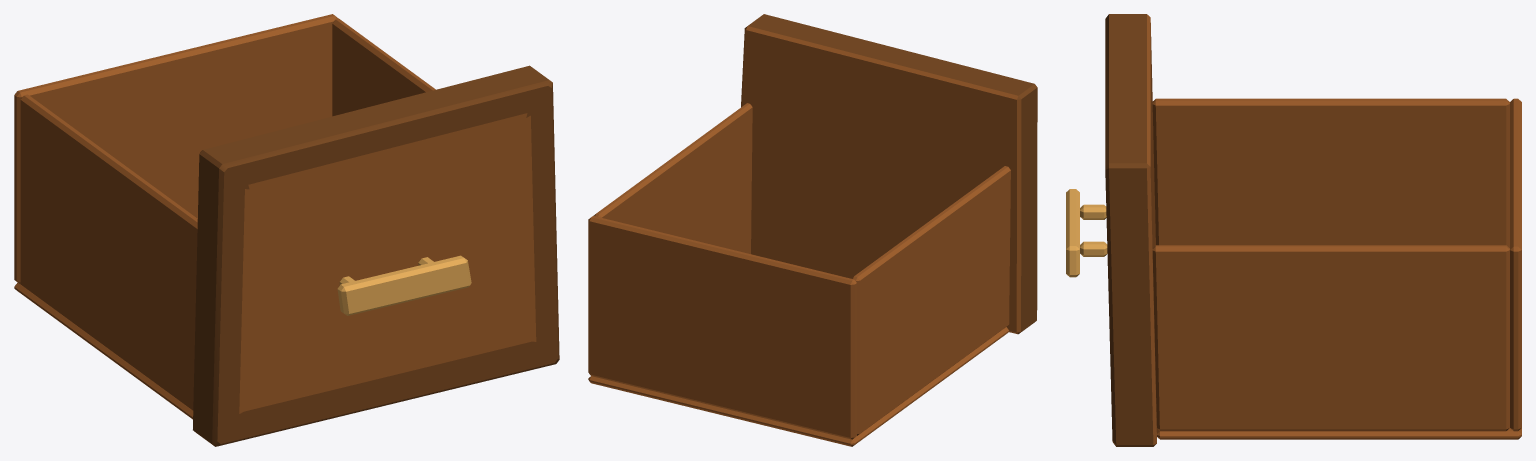
The model's file is File_cabinet_Box_5.fbx.
3 views of the same model, side by side, from view 1: azimuth 30°, elevation 25°; view 2: azimuth 150°, elevation 25°; view 3: azimuth 270°, elevation 25° (orthographic). The views are drawn at different scales.
Visible parts, largest first — view 1: File_cabinet_Box_5; view 2: File_cabinet_Box_5; view 3: File_cabinet_Box_5.
Boxes of the visible parts, x1,y1,x2,y2 form: File_cabinet_Box_5: (14,14,559,446); File_cabinet_Box_5: (588,14,1037,446); File_cabinet_Box_5: (1066,14,1521,446).
Bounding box in the file's own units: 0.4441 × 0.3536 × 0.5242.
